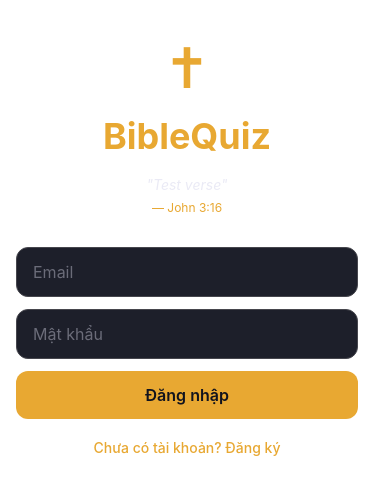
Test: LoginScreen › toggles to register mode
This screenshot has width=375, height=504.
Click the text "Chưa có tài khoản? Đăng ký". click: (187, 448)
box: [94,439,280,456]
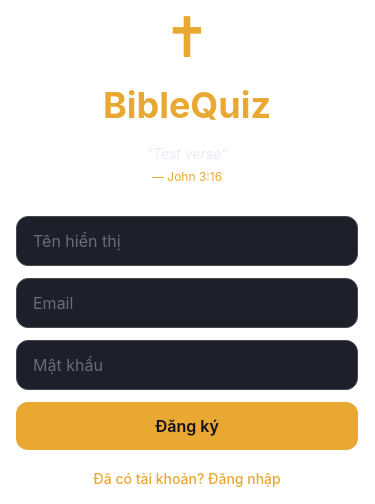
Expected: the text "Đăng ký" is shown, [155,416,219,436]
Expected: the field with placeholder "Tên hiển thị" is shown, [16,216,358,266]
